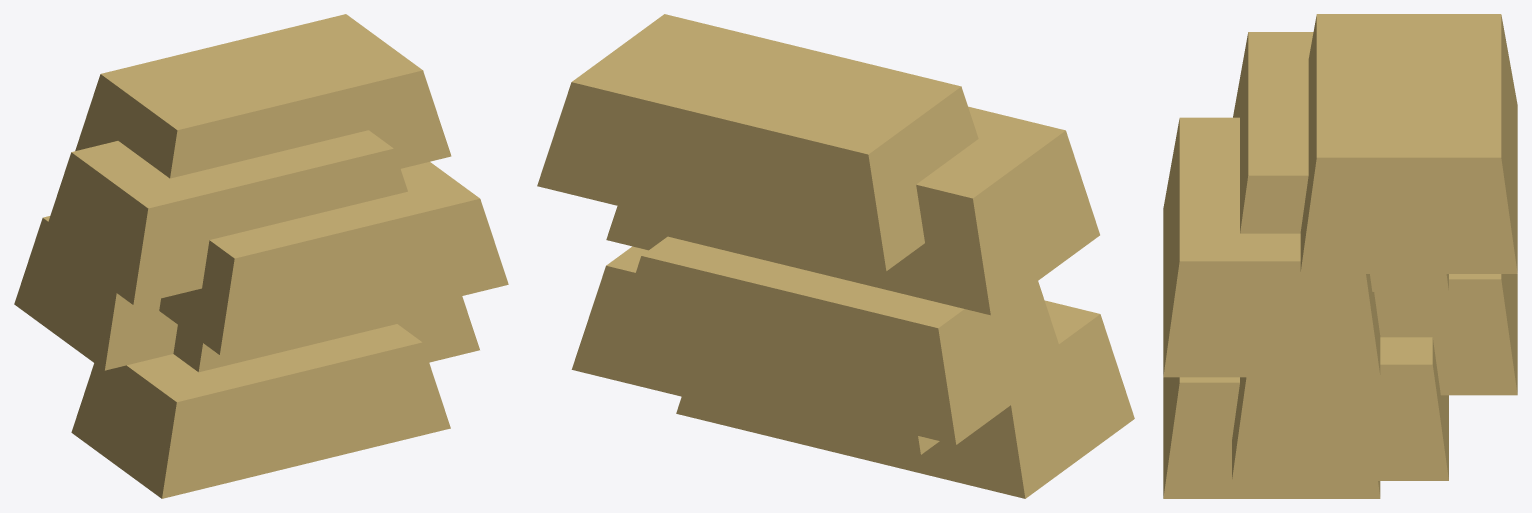
Rendered from item_078_bronze_ingot_l.glb.
3 views of the same model, side by side, from view 1: azimuth 30°, elevation 25°; view 2: azimuth 150°, elevation 25°; view 3: azimuth 270°, elevation 25° (orthographic). The views are drawn at different scales.
Parts seen in each view (by area): view 1: item_078_bronze_ingot_l; view 2: item_078_bronze_ingot_l; view 3: item_078_bronze_ingot_l.
Part boxes in pixels (x1=…): item_078_bronze_ingot_l: x1=14, y1=14, x2=508, y2=498; item_078_bronze_ingot_l: x1=537, y1=14, x2=1134, y2=498; item_078_bronze_ingot_l: x1=1163, y1=14, x2=1517, y2=498.
Bounding box in the file's own units: 0.42 × 0.35 × 0.31.
